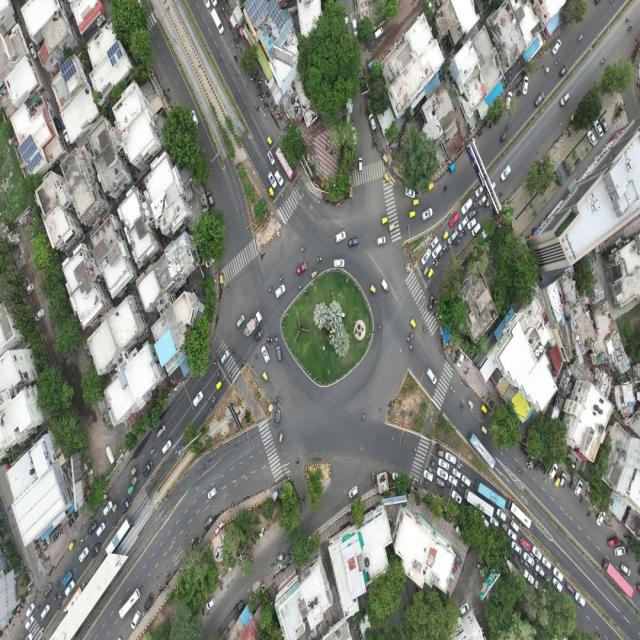3W: (276, 428, 286, 446), (441, 225, 450, 242), (500, 520, 510, 535), (68, 538, 77, 554), (368, 283, 379, 296), (407, 208, 417, 222), (448, 160, 458, 174), (261, 369, 270, 384), (426, 180, 436, 193), (500, 131, 509, 145), (480, 424, 489, 438), (310, 269, 320, 281), (568, 478, 576, 493), (111, 501, 120, 514), (215, 379, 224, 392), (479, 402, 488, 415), (131, 474, 139, 488), (427, 266, 434, 282), (554, 475, 561, 491), (388, 222, 397, 234), (382, 150, 388, 168), (269, 187, 276, 202), (422, 264, 429, 279), (126, 486, 135, 497), (218, 273, 225, 287), (409, 317, 416, 331), (382, 173, 391, 183), (436, 447, 445, 457), (569, 112, 576, 124), (484, 198, 491, 210), (380, 215, 389, 224), (413, 197, 420, 207)
Bus: (103, 511, 136, 559), (467, 430, 497, 471), (474, 474, 506, 512), (464, 487, 495, 520), (274, 144, 300, 183), (507, 495, 533, 531)
Cars: (420, 243, 434, 265), (129, 609, 142, 631), (233, 596, 246, 618), (332, 252, 347, 271), (200, 512, 214, 532), (191, 388, 205, 408), (460, 195, 474, 215), (259, 342, 271, 365), (372, 24, 388, 41), (143, 592, 155, 614), (593, 119, 605, 141), (595, 506, 607, 528), (500, 164, 513, 184), (425, 366, 438, 386), (204, 592, 217, 612), (534, 88, 546, 109), (41, 581, 54, 600), (574, 590, 587, 609), (155, 419, 167, 439), (510, 540, 525, 556), (348, 482, 360, 502), (450, 489, 464, 506), (469, 222, 482, 240), (551, 576, 564, 594), (142, 458, 154, 477), (355, 150, 364, 175), (374, 232, 388, 248), (522, 550, 536, 566), (519, 535, 532, 552), (62, 568, 73, 588), (266, 148, 277, 168), (504, 87, 514, 109), (586, 129, 597, 149), (547, 462, 558, 482), (78, 546, 90, 564), (120, 496, 132, 514), (234, 312, 246, 330), (334, 226, 346, 244), (206, 187, 216, 208), (347, 233, 361, 248), (506, 527, 520, 542), (274, 284, 287, 300), (295, 260, 308, 276), (350, 125, 359, 148), (64, 580, 76, 597), (160, 439, 172, 456), (430, 244, 442, 261), (620, 561, 632, 578), (25, 600, 36, 618), (267, 171, 278, 189), (189, 110, 200, 128), (368, 111, 377, 133), (599, 115, 610, 133), (444, 450, 457, 465), (438, 456, 451, 471), (86, 519, 98, 535), (448, 212, 460, 228), (552, 566, 564, 582), (541, 554, 553, 570), (461, 474, 473, 490), (558, 470, 568, 489), (275, 345, 284, 366), (102, 500, 113, 517), (558, 63, 569, 80), (474, 183, 485, 200), (458, 215, 469, 232), (488, 517, 502, 530), (437, 467, 450, 481), (96, 520, 106, 538), (206, 486, 218, 501), (274, 170, 284, 188), (552, 38, 562, 56), (559, 90, 569, 108), (574, 478, 584, 496), (496, 507, 508, 522), (25, 614, 36, 630), (40, 604, 51, 620), (91, 542, 102, 558), (359, 71, 367, 93), (405, 184, 416, 200), (521, 75, 529, 97), (532, 545, 543, 561), (510, 518, 521, 534), (220, 349, 230, 366), (613, 545, 626, 558), (274, 408, 282, 429), (422, 208, 434, 222), (447, 230, 458, 245), (448, 473, 459, 488), (423, 468, 434, 483), (456, 350, 464, 370), (606, 535, 618, 548), (535, 563, 546, 577), (452, 467, 463, 480), (254, 328, 264, 342), (565, 580, 575, 594), (428, 292, 434, 315), (352, 19, 359, 38), (468, 208, 479, 220), (435, 476, 446, 488), (478, 194, 488, 207), (467, 217, 476, 231), (431, 236, 439, 249)
LCV: (208, 6, 225, 37), (522, 568, 535, 588), (379, 274, 391, 294)
M2W: (357, 403, 367, 425), (299, 489, 307, 508), (164, 566, 171, 580), (315, 252, 323, 264), (504, 120, 512, 132), (498, 188, 506, 200), (421, 322, 428, 335), (267, 283, 275, 294), (626, 22, 634, 33), (531, 567, 539, 578), (58, 590, 65, 602), (232, 51, 239, 63), (38, 625, 46, 635), (149, 445, 156, 456), (425, 462, 432, 473), (377, 324, 384, 335), (53, 589, 58, 604), (78, 536, 84, 548), (236, 352, 242, 364), (255, 102, 261, 114), (599, 57, 607, 66), (459, 401, 465, 413), (528, 550, 536, 559), (295, 456, 301, 468), (34, 604, 41, 614), (300, 245, 307, 255), (280, 192, 287, 202), (449, 384, 456, 394), (516, 466, 523, 476), (445, 481, 452, 491), (34, 541, 40, 552), (112, 520, 118, 531), (53, 530, 58, 543), (216, 366, 221, 379), (426, 282, 434, 290), (37, 551, 44, 560), (55, 578, 60, 590), (231, 348, 237, 358), (277, 394, 283, 404), (274, 396, 280, 406), (278, 274, 284, 284), (578, 33, 584, 43), (625, 13, 631, 23), (408, 343, 414, 353), (226, 282, 230, 296), (523, 560, 530, 568), (213, 356, 218, 367), (267, 334, 272, 345), (190, 536, 195, 547), (298, 282, 304, 291), (268, 100, 274, 109), (432, 257, 438, 266), (406, 336, 412, 345), (623, 532, 629, 541), (430, 460, 436, 469), (423, 478, 429, 487), (626, 543, 630, 556), (57, 602, 62, 612), (262, 99, 267, 109), (443, 183, 448, 193), (474, 197, 479, 207), (438, 250, 443, 260), (586, 510, 591, 520), (431, 455, 438, 462), (74, 508, 78, 520), (266, 338, 270, 350), (259, 94, 265, 102), (360, 104, 364, 116), (476, 131, 482, 139), (555, 58, 561, 66), (464, 230, 470, 238), (534, 556, 540, 564), (456, 486, 462, 494), (456, 461, 462, 469), (371, 142, 376, 151), (56, 528, 60, 539), (60, 527, 64, 538), (68, 518, 72, 529), (71, 514, 75, 525), (250, 74, 256, 81), (457, 232, 464, 238), (456, 240, 462, 247), (452, 240, 458, 247), (408, 332, 414, 339), (519, 559, 526, 565), (459, 481, 465, 488), (274, 334, 278, 344), (517, 91, 522, 99), (580, 496, 584, 506), (228, 369, 231, 381), (259, 77, 265, 83), (255, 79, 259, 88), (256, 92, 262, 98), (520, 445, 524, 454), (618, 540, 624, 546), (516, 553, 522, 559), (435, 443, 441, 449), (252, 77, 257, 84), (272, 106, 277, 113), (442, 244, 447, 251), (106, 496, 110, 504), (265, 90, 269, 98), (517, 83, 521, 91), (270, 334, 273, 344), (461, 227, 466, 233), (434, 262, 439, 268), (212, 397, 216, 404), (52, 535, 55, 544), (538, 460, 541, 469), (541, 463, 544, 472), (257, 87, 262, 92), (265, 102, 268, 110), (443, 250, 446, 258), (531, 455, 534, 463), (209, 407, 213, 413), (267, 92, 270, 99), (447, 245, 450, 252), (544, 466, 546, 476), (523, 448, 526, 454)
Truck: (243, 305, 264, 340)
